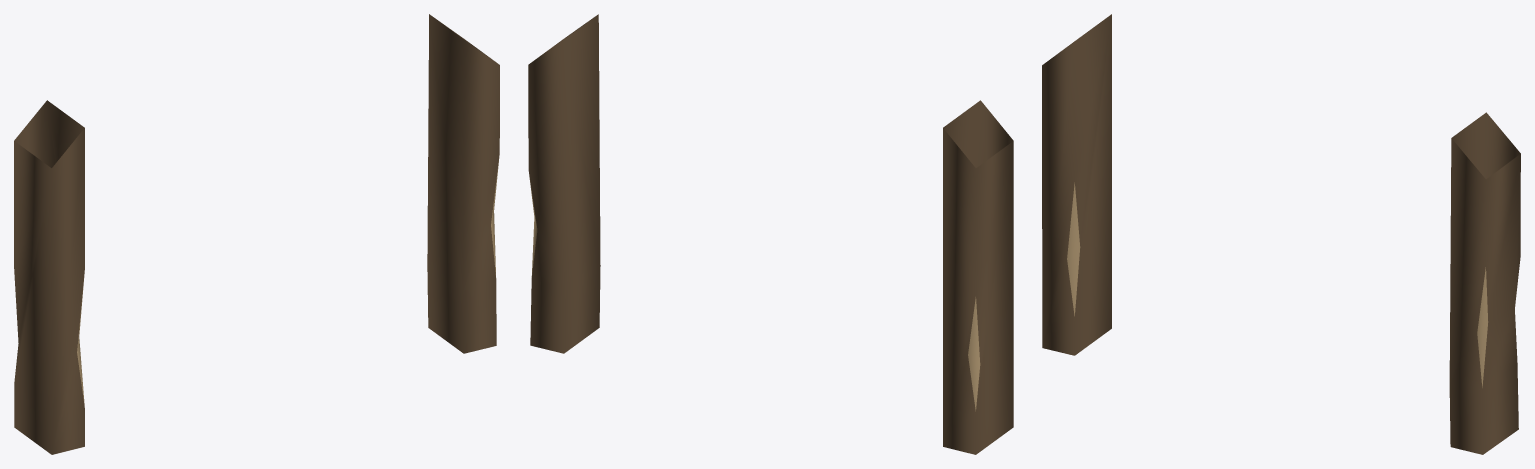
File: rpgpp_ag_roof_end_01_9x4_wall_beam_e.fbx
3 views of the same model, side by side, from view 1: azimuth 30°, elevation 25°; view 2: azimuth 150°, elevation 25°; view 3: azimuth 330°, elevation 25° (orthographic).
Visible parts, largest first — view 1: rpgpp_ag_roof_end_01_9x4_wall_beam_e; view 2: rpgpp_ag_roof_end_01_9x4_wall_beam_e; view 3: rpgpp_ag_roof_end_01_9x4_wall_beam_e.
Part boxes in pixels (left/top/right/bottom): rpgpp_ag_roof_end_01_9x4_wall_beam_e: left=14, top=14, right=499, bottom=454; rpgpp_ag_roof_end_01_9x4_wall_beam_e: left=528, top=14, right=1013, bottom=454; rpgpp_ag_roof_end_01_9x4_wall_beam_e: left=1042, top=14, right=1520, bottom=454.
Size of the model in its own units: 3.95 by 2.69 by 0.5745.
